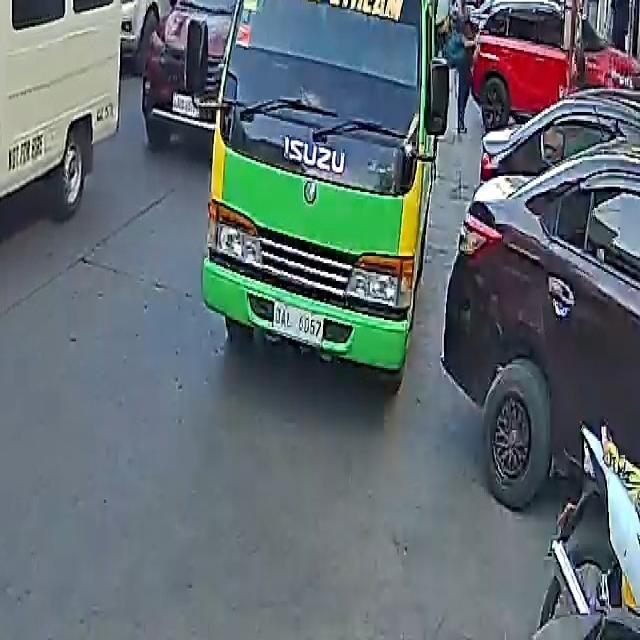car: (443, 88, 640, 518), (470, 0, 639, 133), (144, 0, 259, 121), (119, 0, 194, 71)
